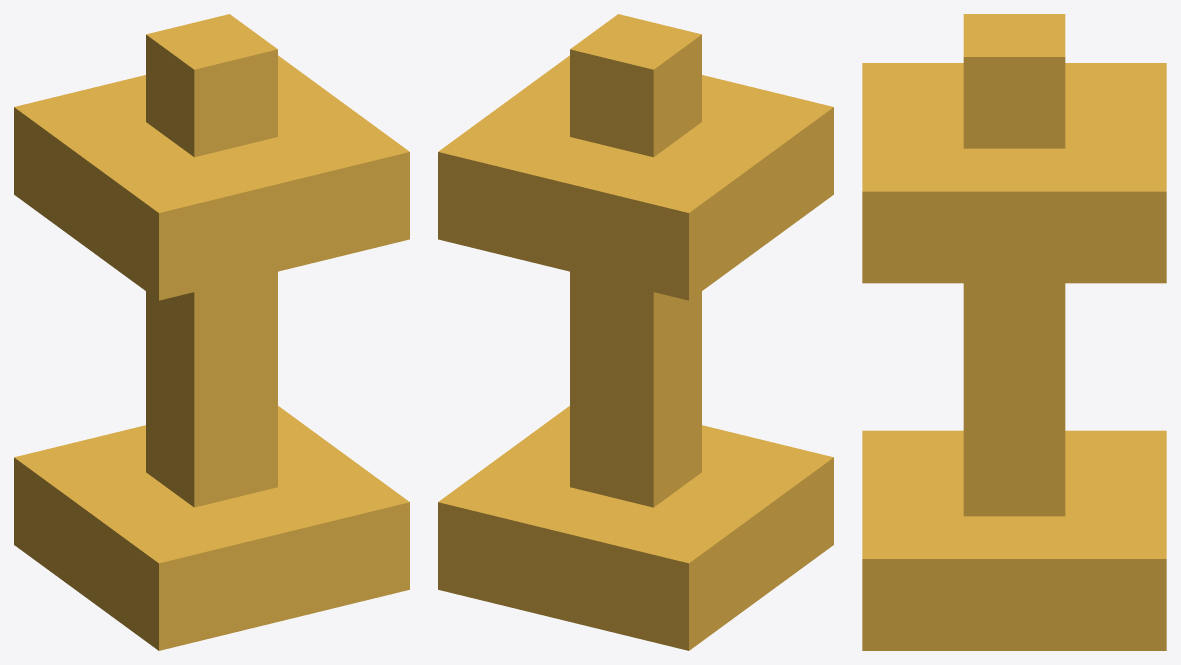
Rendered from gold_lip_ring_stud.glb.
The picture shows the model from 3 angles, left to right: view 1: azimuth 30°, elevation 25°; view 2: azimuth 150°, elevation 25°; view 3: azimuth 270°, elevation 25°; orthographic projection. The views are drawn at different scales.
Visible parts, largest first — view 1: gold_lip_ring_stud:compound; view 2: gold_lip_ring_stud:compound; view 3: gold_lip_ring_stud:compound.
Part boxes in pixels (left/top/right/bottom): gold_lip_ring_stud:compound: left=14, top=14, right=409, bottom=650; gold_lip_ring_stud:compound: left=438, top=14, right=833, bottom=650; gold_lip_ring_stud:compound: left=862, top=14, right=1166, bottom=650.
Bounding box in the file's own units: 0.006 × 0.012 × 0.006.
